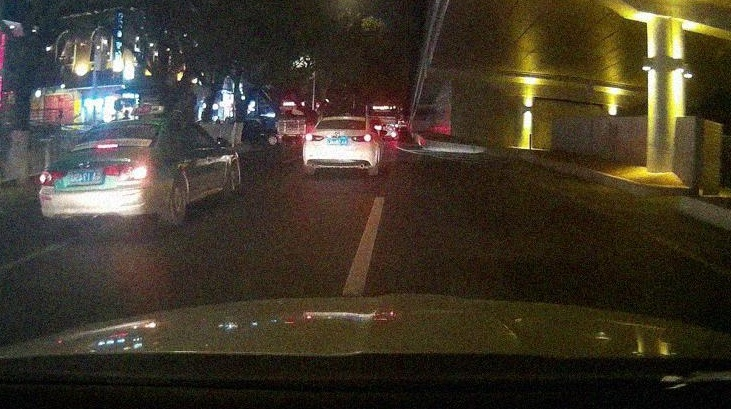L_light: (39, 170, 66, 186), (305, 133, 324, 141)
R_light: (106, 162, 152, 179), (351, 134, 372, 142)
T_light: (97, 144, 118, 149), (338, 119, 347, 121)
night-no: (303, 115, 375, 175)
night-right: (38, 118, 167, 226)
